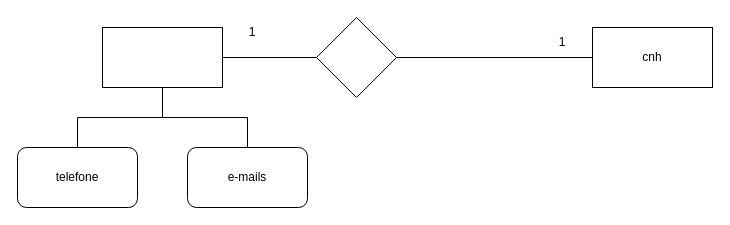
Some shapes in this 730 by 225 pixel diagram are drawn without their labels. Each missing label, with the centre of its shape:
Pessoa: the point at 162,57
Possui: the point at 356,57
